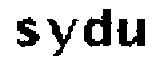d: (82, 4, 114, 49)
s: (13, 17, 41, 50)
u: (115, 13, 148, 50)
y: (43, 14, 78, 60)
